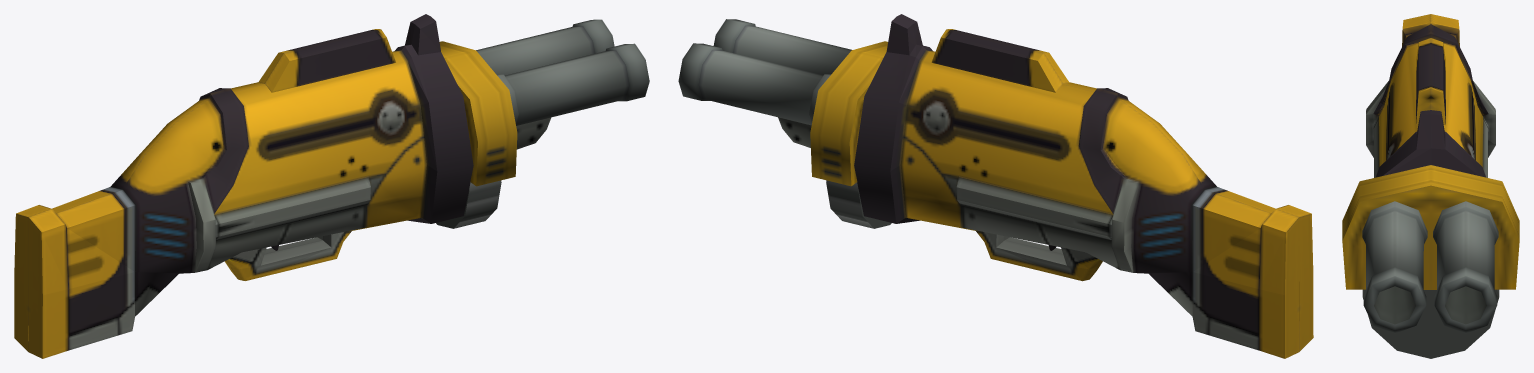
Rendered from Gun_01_2.FBX.
3 views of the same model, side by side, from view 1: azimuth 30°, elevation 25°; view 2: azimuth 150°, elevation 25°; view 3: azimuth 270°, elevation 25° (orthographic). The views are drawn at different scales.
Visible parts, largest first — view 1: Gun_01_2; view 2: Gun_01_2; view 3: Gun_01_2.
Part boxes in pixels (bbox=[...]): Gun_01_2: bbox=[14, 14, 649, 358]; Gun_01_2: bbox=[678, 14, 1313, 358]; Gun_01_2: bbox=[1342, 14, 1519, 358].
Size of the model in its own units: 186 by 71.6 by 45.29.
